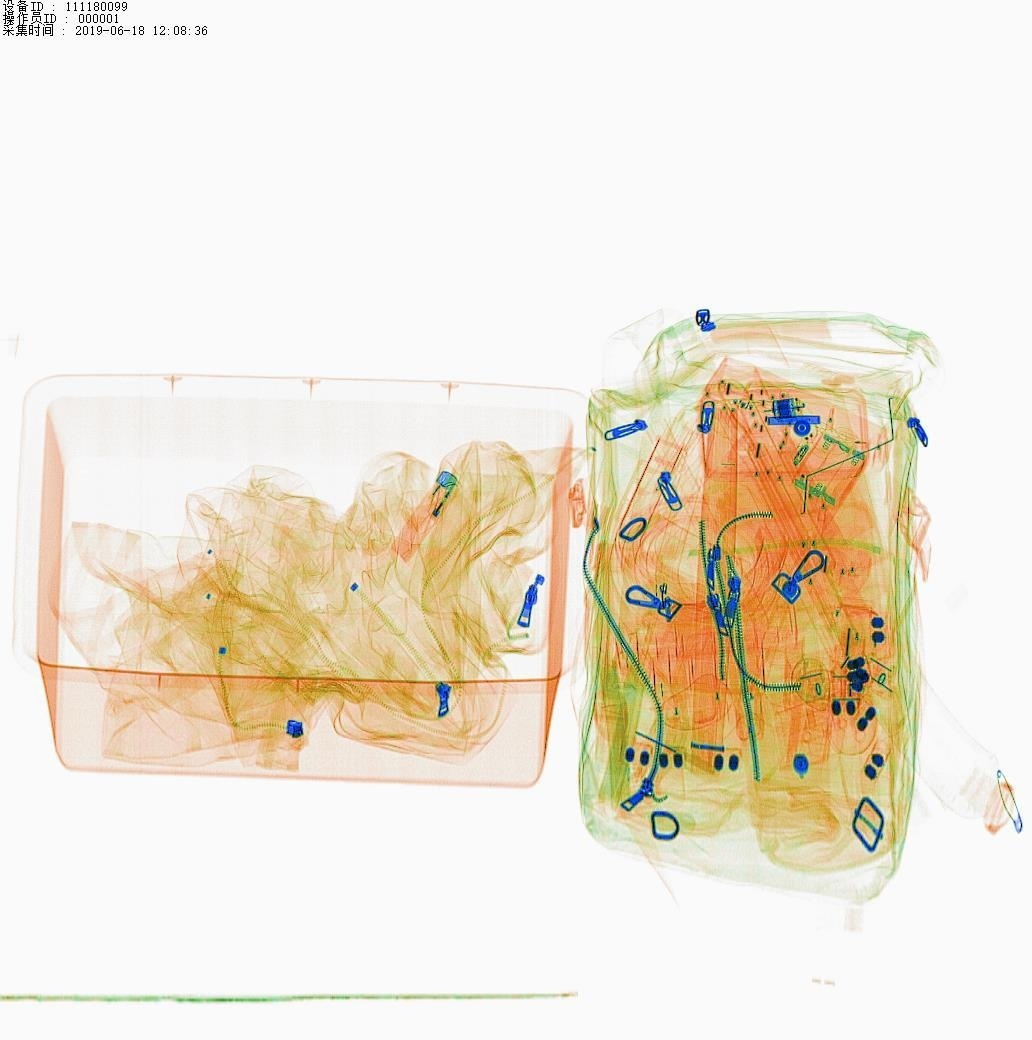NonmetallicFire: (376, 458, 471, 570)
